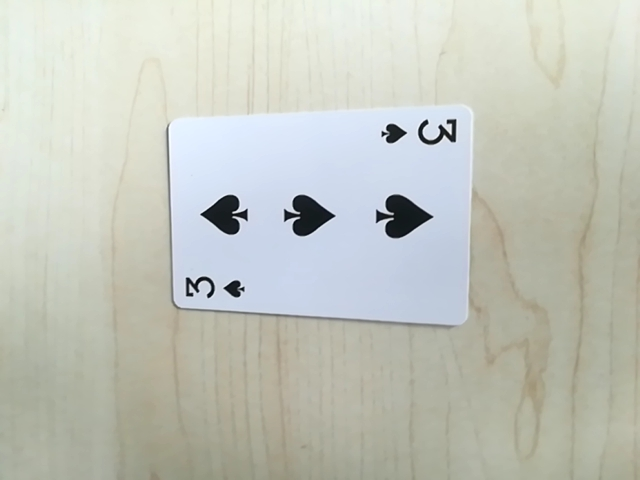ht 3: (379, 113, 462, 154), (178, 271, 250, 306)
